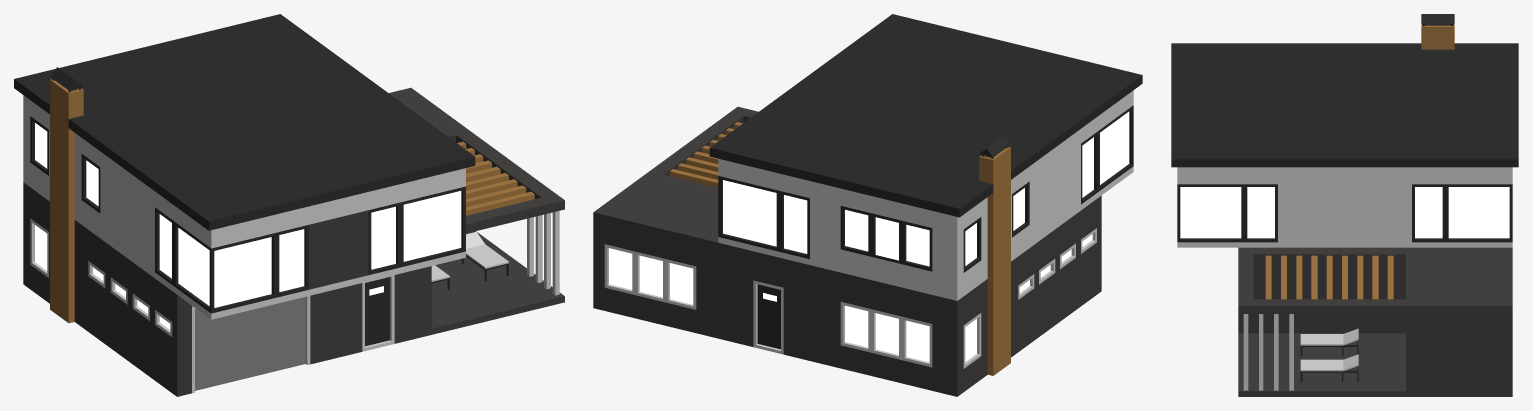
Rendered from buildings-building-house-modern.glb.
3 renders of one model, left to right at view 1: azimuth 30°, elevation 25°; view 2: azimuth 150°, elevation 25°; view 3: azimuth 270°, elevation 25°, orthographic. The views are drawn at different scales.
Visible parts, largest first — view 1: building-house-modern; view 2: building-house-modern; view 3: building-house-modern.
Boxes of the visible parts, left/top/right/bottom form: building-house-modern: left=14, top=14, right=564, bottom=396; building-house-modern: left=593, top=14, right=1142, bottom=396; building-house-modern: left=1171, top=14, right=1518, bottom=396.
Bounding box in the file's own units: 13.3 × 7.77 × 11.4.
